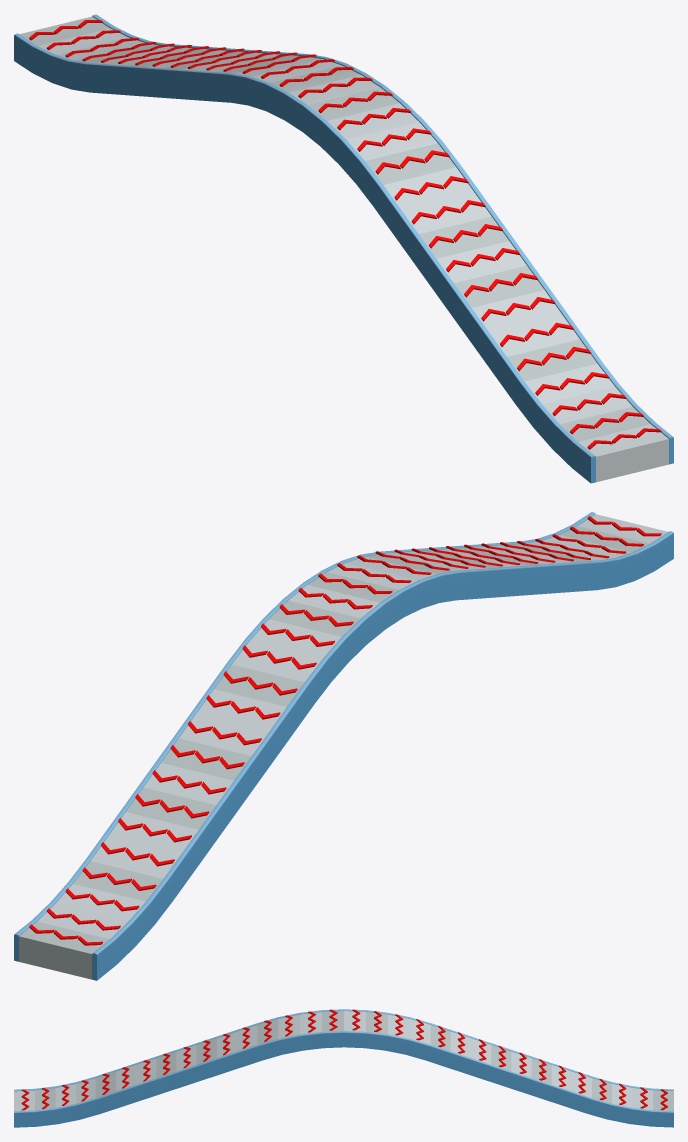
Rendered from conerroad special up.fbx.
3 renders of one model, top to bottom at view 1: azimuth 30°, elevation 25°; view 2: azimuth 150°, elevation 25°; view 3: azimuth 270°, elevation 25°, orthographic. The views are drawn at different scales.
Parts seen in each view (by area): view 1: conerroadspecialup, red_arrow_spel, red_arrow_sper, red_arrow_spec; view 2: conerroadspecialup, red_arrow_spel, red_arrow_sper, red_arrow_spec; view 3: conerroadspecialup, red_arrow_sper, red_arrow_spec, red_arrow_spel.
Boxes of the visible parts, box(x1,y1,x2,y2) form: conerroadspecialup: box(14, 14, 673, 483); red_arrow_spel: box(29, 32, 612, 449); red_arrow_sper: box(78, 20, 661, 437); red_arrow_spec: box(53, 26, 636, 443); conerroadspecialup: box(14, 512, 673, 980); red_arrow_spel: box(78, 528, 661, 945); red_arrow_sper: box(29, 516, 612, 933); red_arrow_spec: box(53, 522, 636, 939); conerroadspecialup: box(14, 1009, 673, 1127); red_arrow_sper: box(21, 1023, 667, 1110); red_arrow_spec: box(21, 1016, 667, 1103); red_arrow_spel: box(21, 1009, 667, 1096).
Bounding box in the file's own units: 340 × 661 × 4094.
